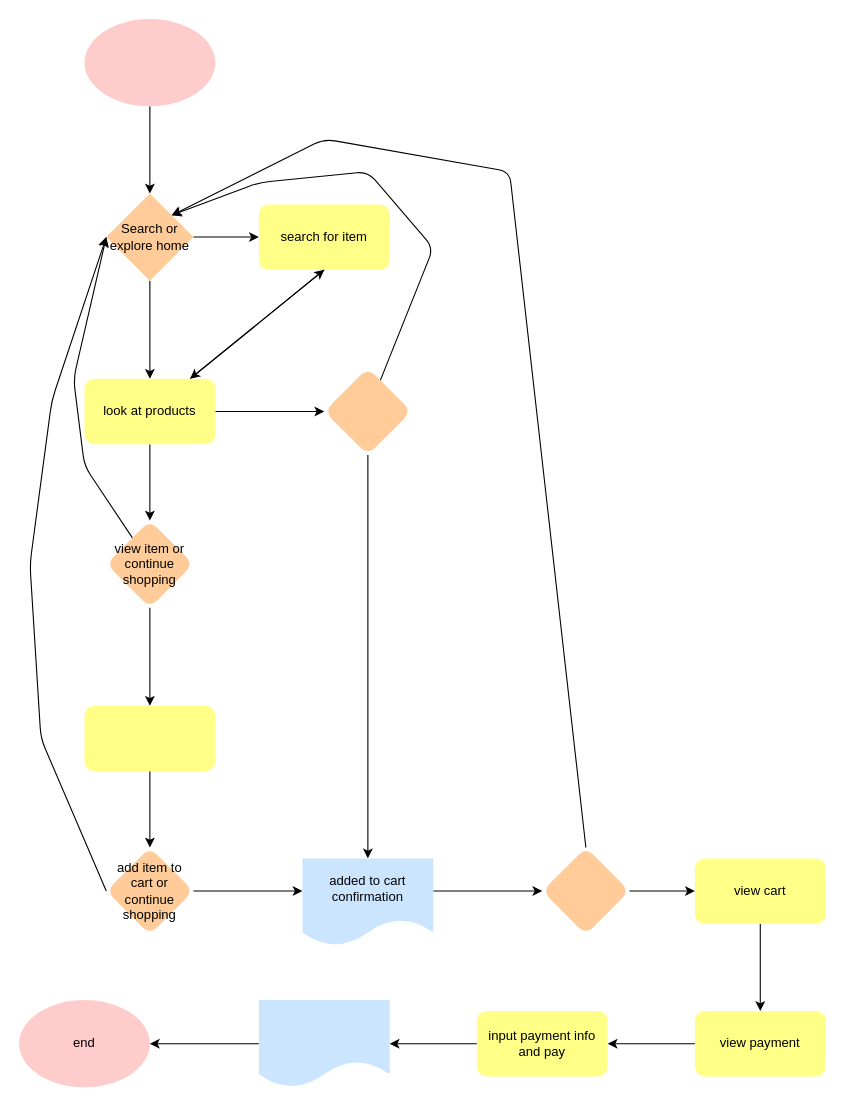
This 844x1105 diagram has some shape labels left out. Each missing label, with the centre of its shape:
"add to cart or continue shopping" goes at [367,411].
"checkout or continue shopping" goes at [585,890].
"order confirmation" goes at [323,1043].
"Start" goes at [149,62].
"view item" goes at [149,738].
